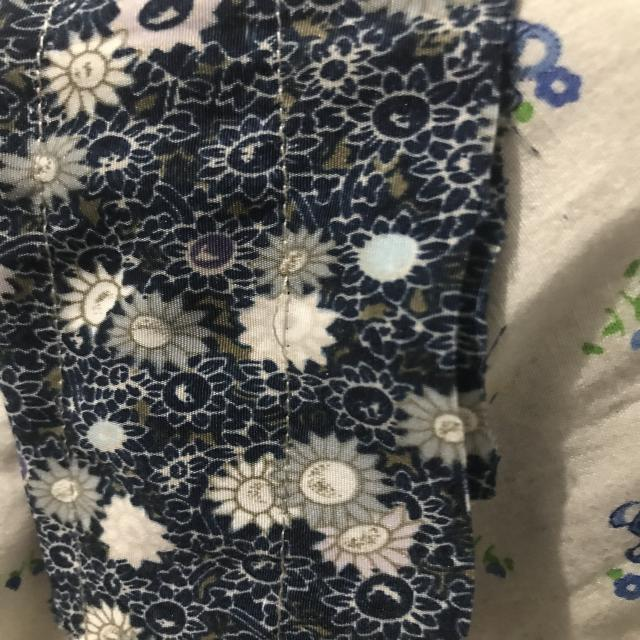skip: (261, 258, 311, 369)
